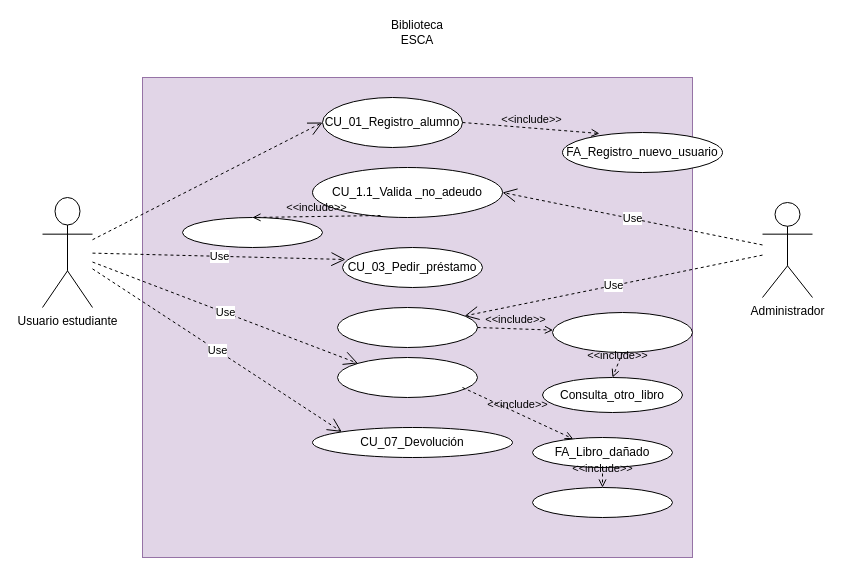
This 841x575 diagram has some shape labels left out. Each missing label, with the centre of its shape:
"FA_No_disponibilidad" goes at (x=622, y=332).
"FA_Paga_multa" goes at (x=252, y=232).
"Pagar _multa" goes at (x=602, y=502).
"Prestamo_consulta" goes at (x=407, y=377).
"Verifica_disponibilidad" goes at (x=407, y=327).
